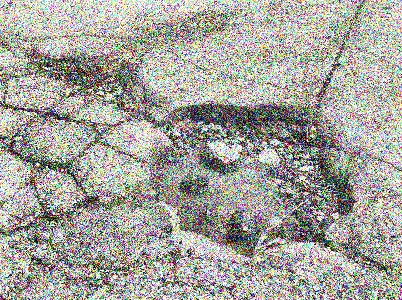pothole: (145, 100, 359, 258), (33, 53, 150, 117)
